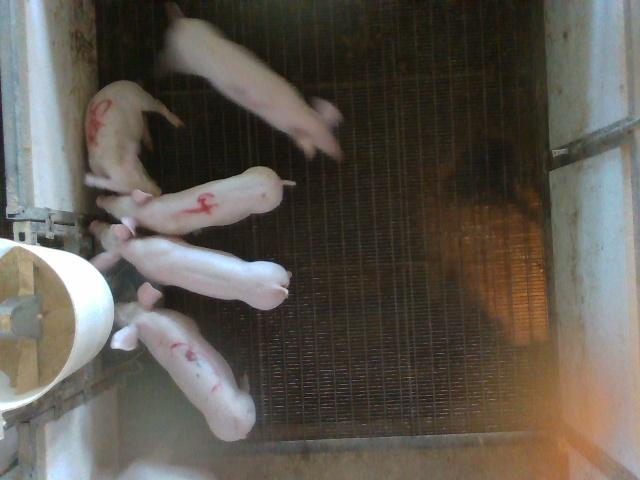pig-2: (160, 5, 342, 159)
pig-3: (111, 282, 256, 441)
pig-4: (98, 166, 295, 235)
pig-5: (85, 81, 184, 196)
